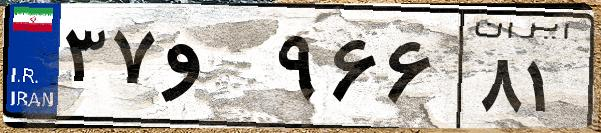1: (525, 38, 570, 115)
3: (57, 26, 110, 100)
6: (385, 28, 445, 110), (330, 28, 385, 110)
7: (110, 28, 158, 98)
8: (475, 38, 525, 113)
9: (270, 28, 330, 110)
و: (158, 20, 270, 120)
